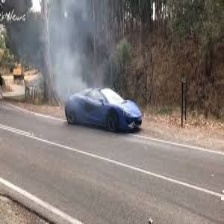smoke: (35, 8, 87, 92)
